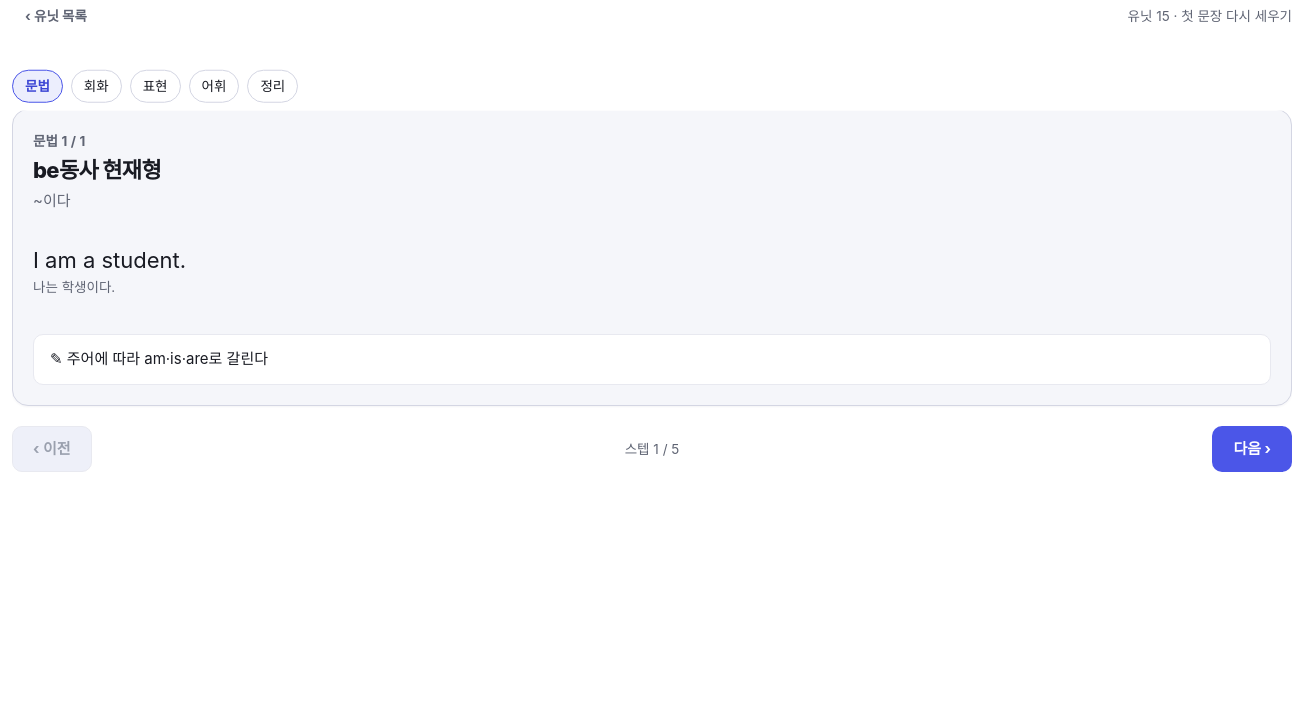
열린 데까지의 끝 — coursePlannedUnits (기획 §5-5 · 예외 E-4) › 계획 수를 채우면 그때 완주 축하가 뜬다
Click the button "정리". click: (273, 86)
box: [247,70,298,102]
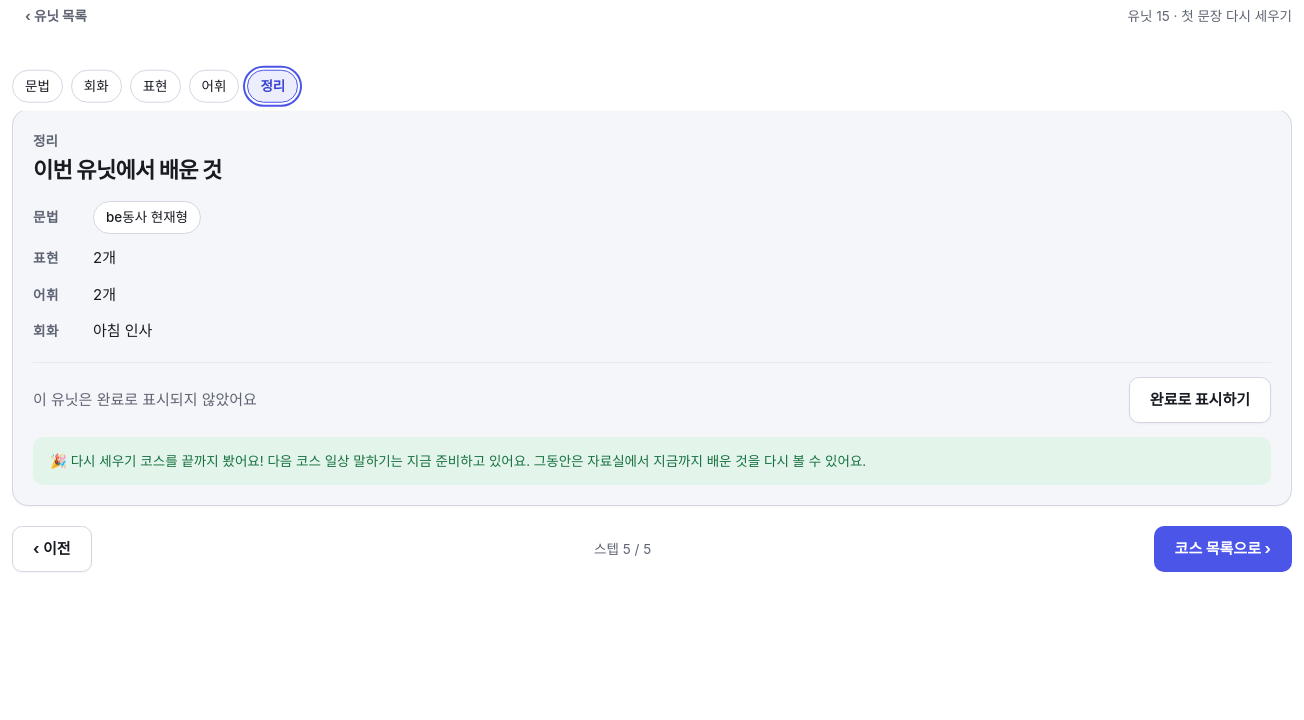
expect the text "끝까지 봤어요" is shown: met, box [136,453,264,469]
